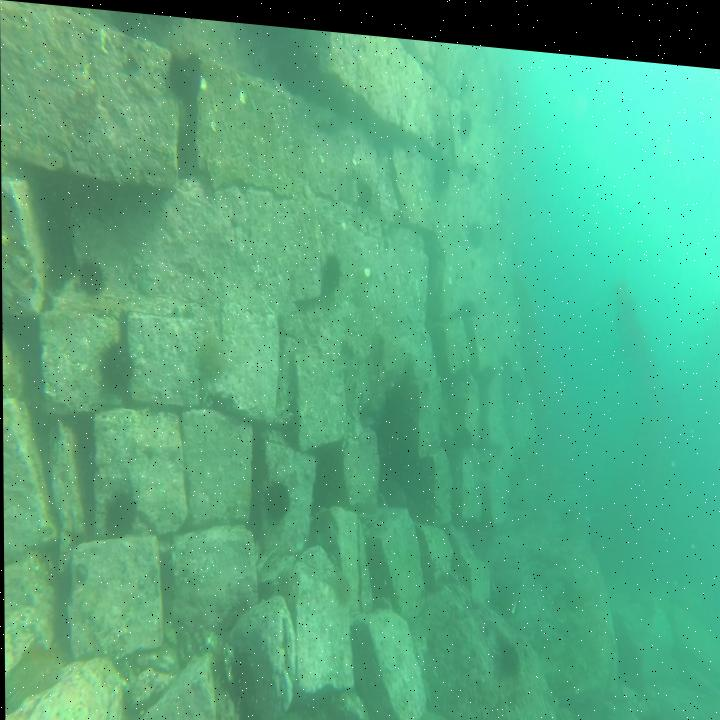echinus: (97, 333, 137, 390), (102, 485, 141, 536), (193, 323, 228, 377), (70, 249, 109, 295), (263, 468, 294, 520), (320, 240, 345, 291)
